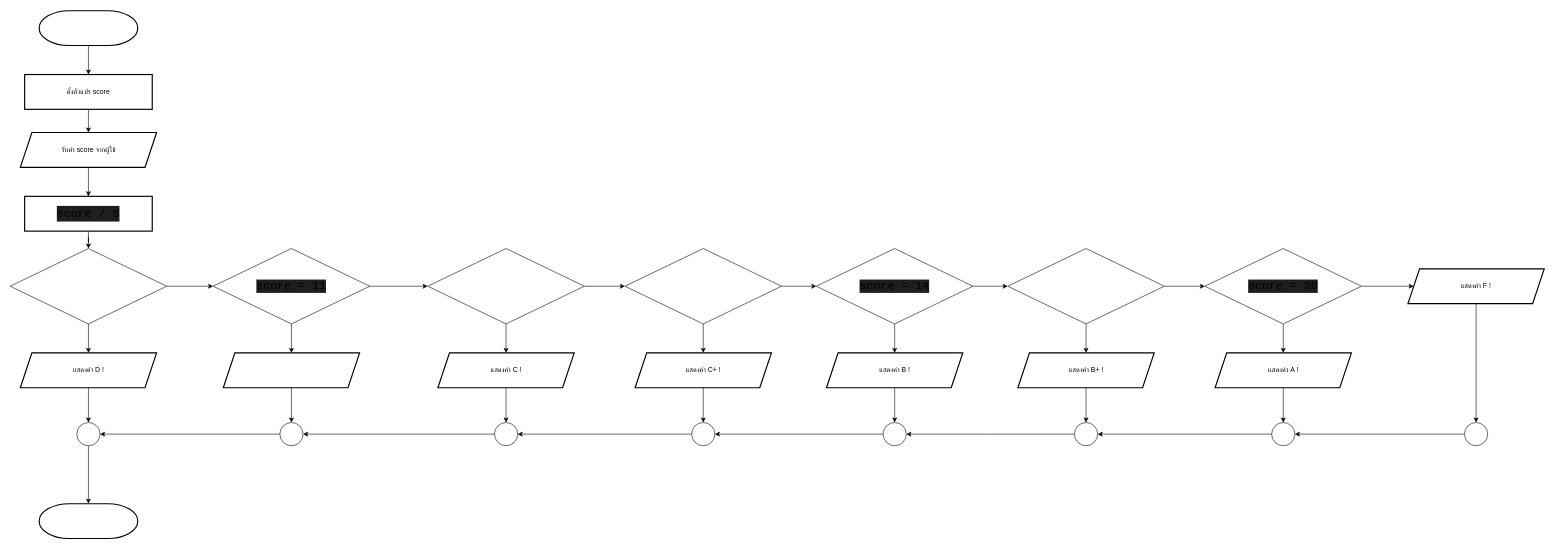
The diagram is 1555 pixels wide and 549 high, and some of its shapes have lost their labels. Each missing label, with the centre of its shape:
score = 10: the point at 88,286
score = 12: the point at 505,286
score = 13: the point at 703,286
score = 15: the point at 1085,286
จบ: the point at 88,521
เริ่ม: the point at 88,28
แสดงค่า D+ !: the point at 291,370
